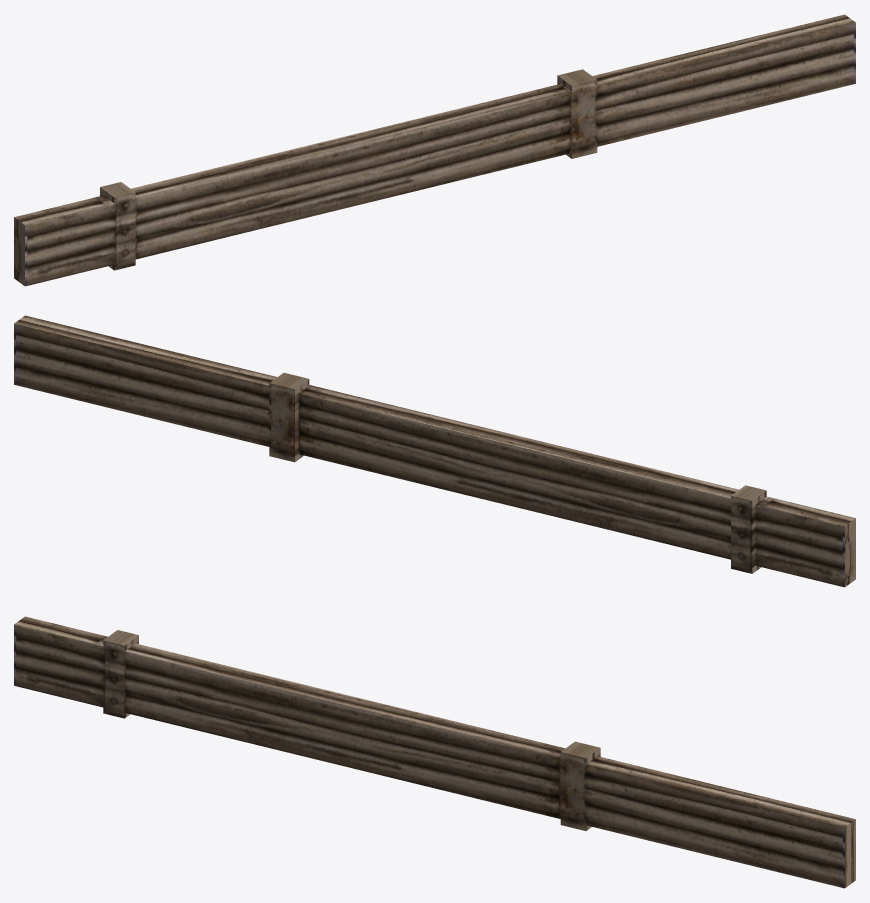
File: wires.fbx
3 renders of one model, top to bottom at view 1: azimuth 30°, elevation 25°; view 2: azimuth 150°, elevation 25°; view 3: azimuth 330°, elevation 25°, orthographic.
Parts seen in each view (by area): view 1: Cube; view 2: Cube; view 3: Cube.
Boxes of the visible parts, box(x1,y1,x2,y2) form: Cube: box(14, 14, 855, 286); Cube: box(14, 315, 855, 587); Cube: box(14, 616, 855, 888).
Bounding box in the file's own units: 498 × 41.86 × 14.91.
